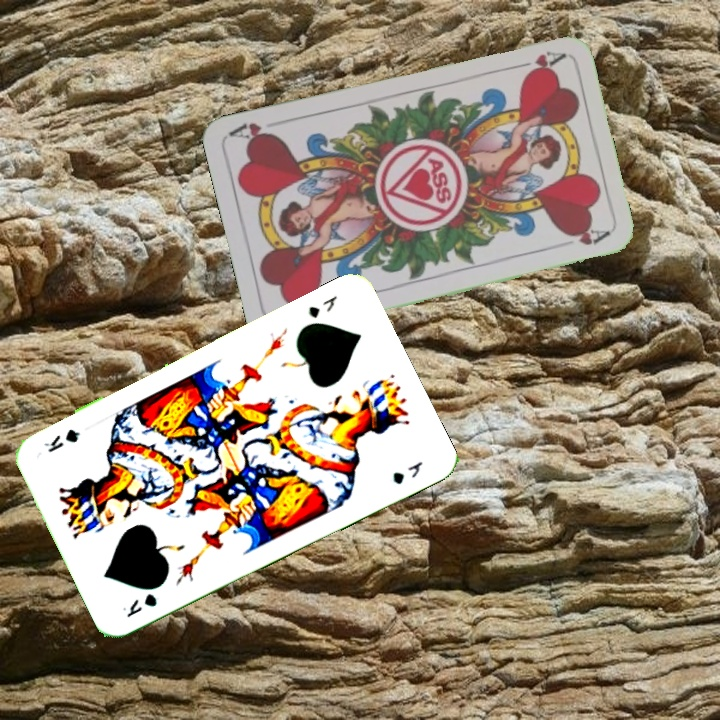GK: (123, 589, 160, 620), (304, 291, 340, 321)
HA: (508, 47, 567, 78)
